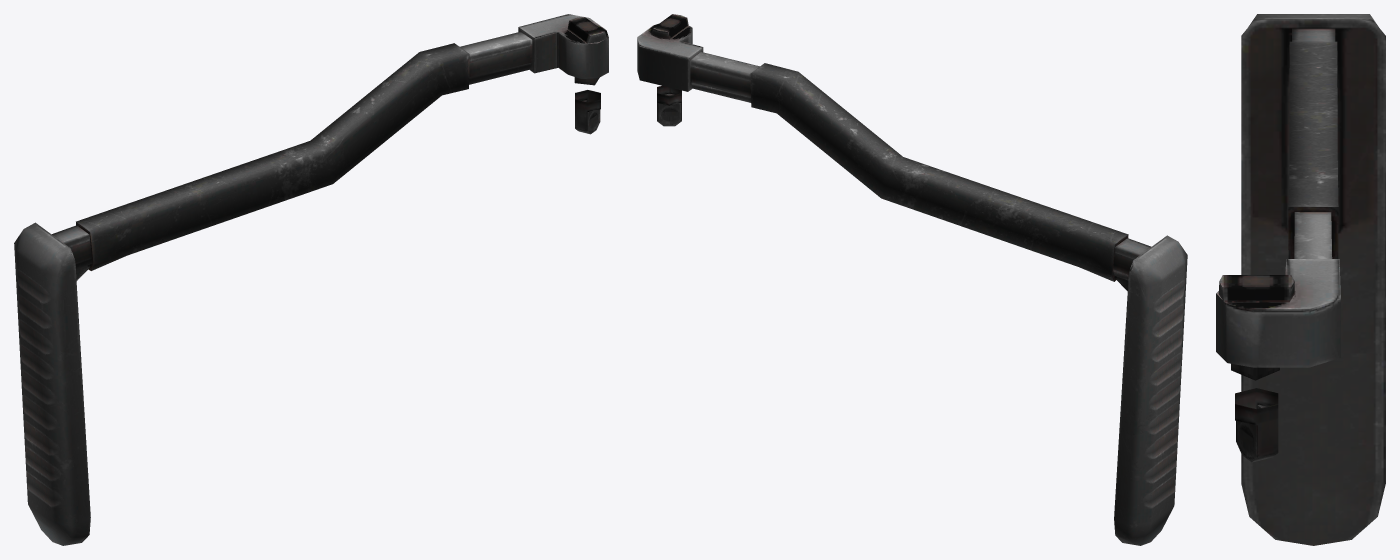
The model's file is ST_Stock_UZI.FBX.
The picture shows the model from 3 angles, left to right: view 1: azimuth 30°, elevation 25°; view 2: azimuth 150°, elevation 25°; view 3: azimuth 270°, elevation 25°; orthographic projection. The views are drawn at different scales.
Visible parts, largest first — view 1: ST_Stock_UZI; view 2: ST_Stock_UZI; view 3: ST_Stock_UZI.
Part boxes in pixels (box(x1,y1,x2,y2)): ST_Stock_UZI: box(14, 14, 608, 545); ST_Stock_UZI: box(637, 14, 1187, 545); ST_Stock_UZI: box(1216, 14, 1385, 545).
Bounding box in the file's own units: 20.14 × 13.85 × 3.17.
Materials: 1 (1 with a texture image).
